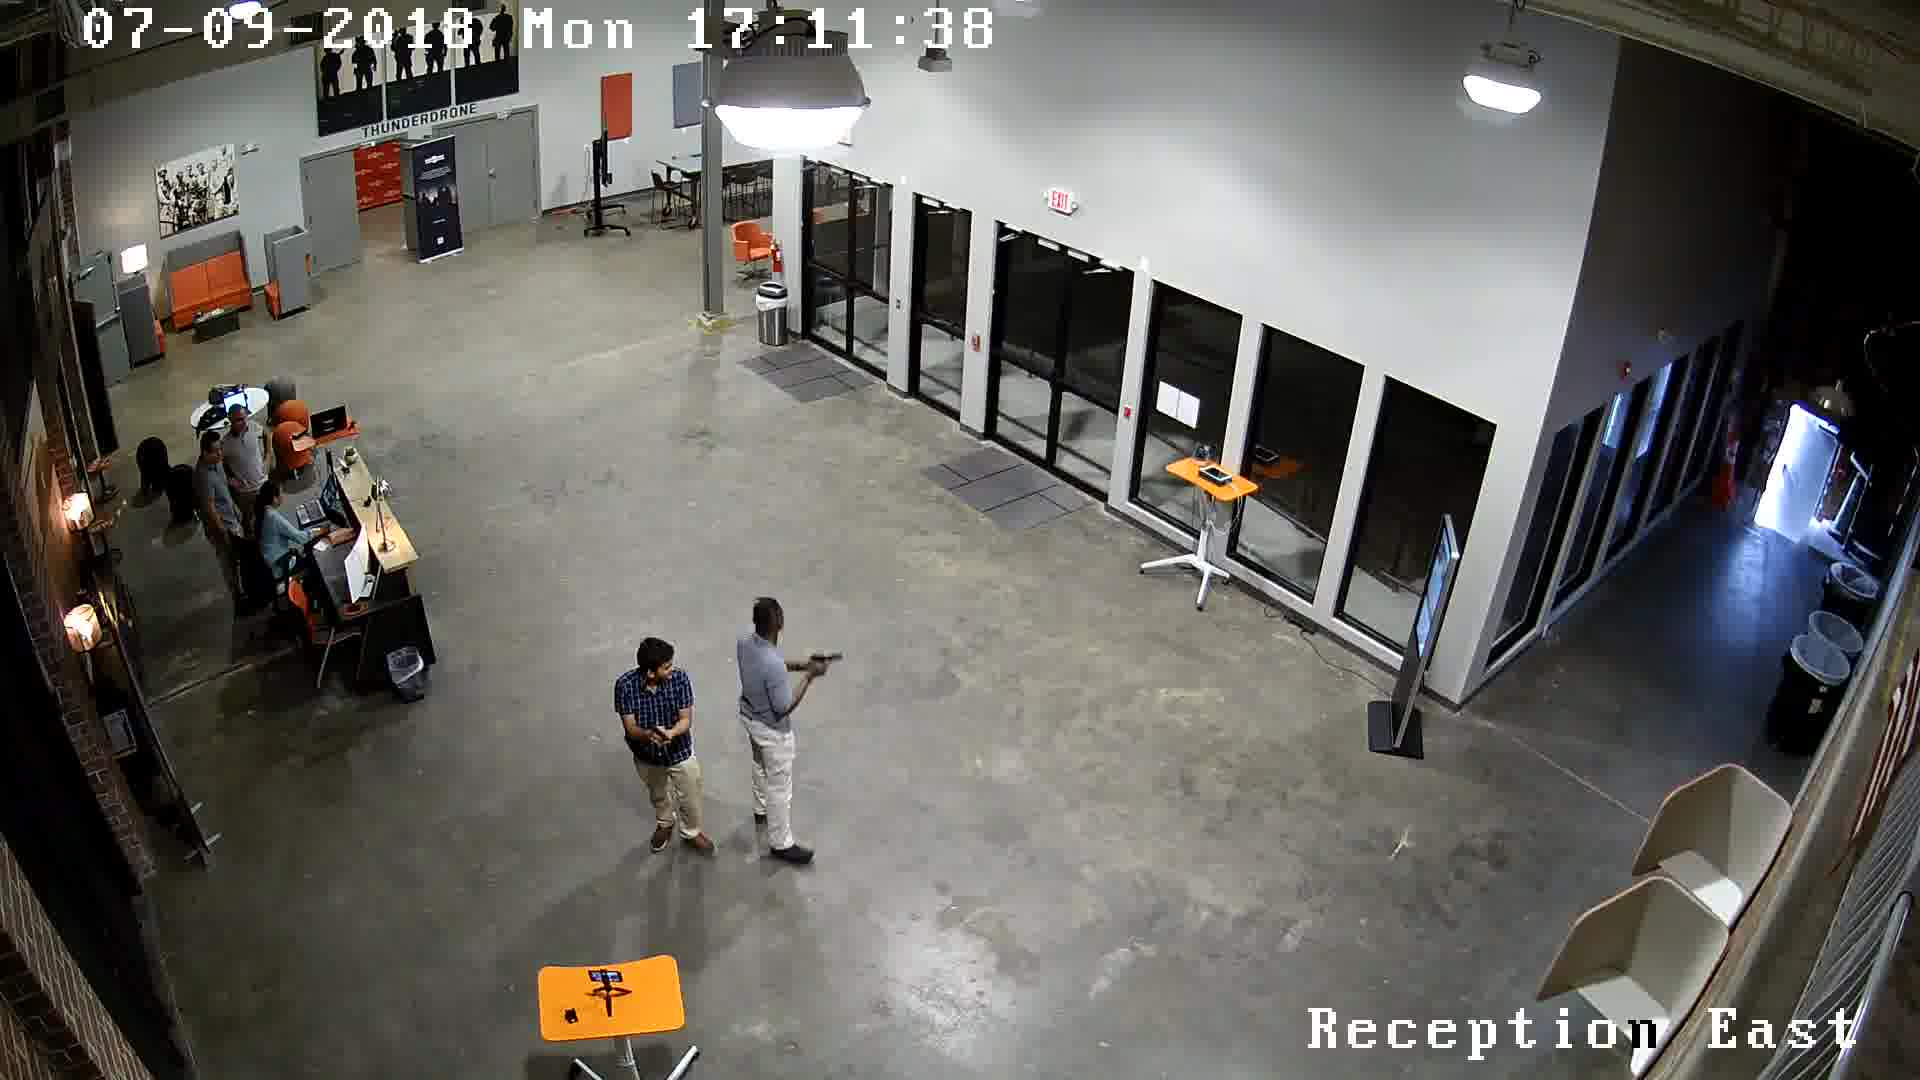pistol: (798, 642, 855, 688), (637, 720, 683, 760)
